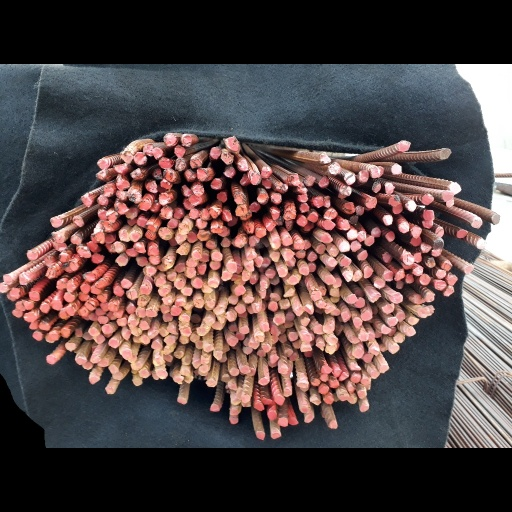dipstick: (92, 219, 118, 232), (223, 135, 240, 152), (416, 305, 436, 318), (177, 320, 193, 335), (75, 243, 91, 258), (162, 133, 178, 147), (174, 229, 188, 245), (89, 231, 106, 244), (202, 310, 216, 325), (160, 255, 175, 269), (157, 156, 173, 169), (209, 203, 222, 219), (230, 272, 246, 285), (61, 260, 78, 272), (220, 151, 234, 165), (287, 172, 301, 186), (163, 168, 177, 182), (119, 150, 133, 164), (116, 177, 130, 191), (327, 161, 341, 175), (158, 226, 172, 240), (114, 202, 129, 215), (146, 326, 161, 339), (23, 310, 38, 323), (196, 229, 212, 241), (142, 265, 158, 277), (113, 163, 130, 174), (249, 171, 262, 185), (191, 184, 205, 197), (133, 151, 147, 164), (95, 168, 109, 181), (159, 206, 173, 219), (188, 193, 202, 206), (242, 220, 255, 234), (233, 235, 247, 248), (363, 196, 377, 209), (445, 272, 458, 286), (309, 288, 322, 302), (199, 281, 213, 294), (118, 228, 131, 242), (84, 296, 97, 310), (64, 303, 78, 316), (91, 251, 105, 264), (80, 192, 92, 207), (380, 302, 395, 314), (86, 240, 101, 252), (51, 231, 66, 243), (337, 219, 353, 230), (211, 304, 227, 315), (81, 271, 97, 282), (209, 146, 222, 159), (195, 168, 208, 181), (260, 166, 273, 179), (184, 169, 197, 182), (96, 157, 109, 170), (248, 234, 261, 247), (314, 242, 327, 255), (449, 181, 462, 194), (443, 285, 456, 298), (393, 268, 406, 281), (345, 380, 358, 393), (204, 297, 217, 310), (166, 321, 179, 334), (38, 318, 51, 331), (8, 286, 21, 299), (2, 272, 15, 285), (173, 144, 185, 158), (180, 183, 192, 197), (100, 185, 114, 197), (146, 179, 158, 193), (234, 204, 248, 216), (268, 206, 280, 220), (341, 202, 355, 214), (433, 279, 447, 291), (359, 310, 373, 322), (233, 284, 247, 296), (192, 297, 206, 309), (154, 368, 168, 380), (169, 304, 183, 316), (210, 220, 222, 234), (135, 254, 149, 266), (112, 241, 126, 253), (55, 278, 69, 290), (27, 290, 41, 302), (21, 298, 35, 310), (69, 233, 83, 245), (106, 209, 117, 224), (333, 321, 344, 336), (114, 255, 129, 266), (410, 294, 426, 304), (51, 242, 67, 252), (210, 177, 223, 189), (223, 166, 236, 178), (261, 176, 273, 189), (151, 147, 163, 160), (160, 178, 173, 190), (151, 167, 163, 180), (96, 194, 109, 206), (158, 192, 170, 205), (137, 199, 150, 211), (200, 207, 212, 220), (257, 192, 269, 205), (239, 173, 251, 186), (96, 208, 109, 220), (281, 249, 294, 261), (243, 259, 255, 272), (320, 231, 333, 243), (368, 166, 381, 178), (339, 184, 352, 196), (404, 200, 417, 212), (345, 228, 358, 240), (381, 251, 393, 264), (402, 252, 414, 265), (422, 209, 435, 221), (409, 226, 422, 238), (419, 241, 432, 253), (418, 273, 431, 285), (422, 290, 435, 302), (390, 292, 403, 304), (351, 269, 363, 282), (338, 240, 350, 253), (327, 245, 340, 257), (339, 255, 352, 267), (277, 298, 290, 310), (273, 394, 286, 406), (171, 373, 184, 385), (251, 299, 263, 312), (248, 272, 260, 285), (224, 261, 237, 273), (242, 259, 255, 271), (189, 313, 202, 325), (157, 324, 169, 337), (136, 294, 149, 306), (138, 282, 151, 294), (74, 353, 87, 365), (184, 266, 197, 278), (165, 269, 177, 282), (217, 225, 230, 237), (186, 230, 198, 243), (177, 223, 190, 235), (133, 241, 146, 253), (136, 215, 148, 228), (129, 230, 142, 242), (58, 307, 70, 320), (17, 273, 30, 285), (44, 266, 57, 278), (237, 158, 248, 172), (282, 209, 296, 220), (321, 219, 335, 230), (302, 175, 316, 186), (397, 140, 411, 151), (373, 278, 387, 289), (367, 292, 381, 303), (295, 381, 309, 392), (247, 338, 261, 349), (225, 336, 239, 347), (196, 325, 210, 336), (206, 277, 220, 288), (162, 344, 176, 355), (125, 289, 139, 300), (157, 286, 171, 297), (66, 278, 77, 292), (47, 330, 61, 341), (13, 300, 27, 311), (25, 249, 39, 260), (299, 331, 314, 341), (151, 356, 166, 366), (146, 245, 161, 255), (124, 207, 139, 217), (180, 134, 192, 146), (174, 158, 186, 170), (130, 167, 142, 179), (234, 193, 246, 205), (72, 215, 84, 227), (265, 219, 277, 231), (221, 209, 233, 221), (357, 170, 369, 182), (420, 193, 432, 205), (397, 221, 409, 233), (370, 225, 382, 237), (350, 240, 362, 252), (463, 263, 475, 275), (411, 251, 423, 263), (424, 256, 436, 268), (382, 269, 394, 281), (393, 331, 405, 343), (352, 317, 364, 329), (352, 347, 364, 359), (286, 273, 298, 285), (276, 265, 288, 277), (324, 342, 336, 354), (260, 256, 272, 268), (260, 340, 272, 352), (224, 310, 236, 322), (241, 269, 253, 281), (113, 285, 125, 297), (145, 229, 157, 241), (39, 301, 51, 313), (77, 304, 89, 316), (42, 256, 54, 268), (189, 157, 202, 168), (143, 143, 154, 156), (182, 198, 195, 209), (270, 193, 283, 204), (292, 238, 305, 249), (268, 251, 281, 262), (318, 175, 329, 188), (319, 153, 332, 164), (344, 171, 355, 184), (371, 181, 382, 194), (384, 181, 395, 194), (390, 162, 401, 175), (381, 214, 394, 225), (357, 248, 368, 261), (439, 148, 452, 159), (441, 190, 454, 201), (385, 316, 398, 327), (341, 269, 352, 282), (352, 297, 365, 308), (388, 343, 401, 354), (317, 384, 330, 395), (257, 375, 270, 386), (233, 303, 246, 314), (101, 323, 114, 334), (45, 354, 58, 365), (120, 278, 133, 289), (173, 279, 186, 290), (190, 277, 203, 288), (153, 276, 166, 287), (195, 262, 206, 275), (208, 259, 221, 270), (210, 249, 223, 260), (173, 262, 186, 273), (205, 238, 218, 249), (175, 245, 188, 256), (58, 252, 71, 263), (274, 184, 288, 194), (49, 216, 63, 226), (323, 208, 337, 218), (301, 221, 315, 231), (420, 219, 434, 229), (403, 326, 417, 336), (355, 332, 369, 342), (325, 335, 339, 345), (348, 362, 362, 372), (308, 395, 322, 405), (242, 294, 256, 304), (177, 313, 191, 323), (87, 375, 101, 385), (115, 317, 129, 327), (166, 218, 180, 228), (94, 278, 108, 288), (10, 307, 24, 317), (281, 288, 296, 297), (147, 255, 162, 264), (129, 192, 141, 203), (216, 192, 228, 203), (249, 201, 261, 212), (296, 214, 307, 226), (270, 237, 281, 249), (255, 226, 267, 237), (240, 210, 252, 221), (313, 195, 324, 207), (388, 195, 400, 206), (355, 230, 366, 242), (471, 218, 483, 229), (475, 238, 487, 249), (433, 238, 444, 250), (434, 268, 446, 279), (395, 311, 406, 323), (326, 255, 338, 266), (340, 310, 351, 322), (362, 353, 374, 364), (322, 323, 334, 334), (306, 250, 317, 262), (350, 372, 361, 384), (323, 392, 334, 404), (303, 413, 315, 424), (291, 338, 302, 350), (284, 311, 296, 322), (220, 270, 232, 281), (151, 339, 163, 350), (134, 306, 146, 317), (108, 338, 120, 349), (120, 328, 131, 340), (89, 353, 101, 364), (125, 301, 136, 313), (190, 249, 202, 260), (219, 237, 231, 248), (79, 283, 91, 294), (63, 291, 75, 302), (31, 330, 43, 341), (51, 298, 62, 310), (173, 206, 183, 219), (385, 230, 395, 243), (409, 236, 422, 246), (441, 260, 454, 270), (323, 274, 336, 284), (353, 288, 366, 298), (367, 346, 380, 356), (302, 304, 315, 314), (320, 364, 333, 374), (326, 419, 339, 429), (287, 331, 300, 341), (273, 316, 286, 326), (266, 334, 279, 344), (180, 355, 193, 365), (177, 334, 190, 344), (159, 303, 172, 313), (138, 334, 151, 344), (145, 307, 158, 317), (127, 319, 140, 329), (87, 326, 100, 336), (92, 334, 105, 344), (107, 301, 120, 311), (161, 296, 174, 306), (180, 287, 193, 297), (163, 335, 177, 344), (125, 247, 139, 256), (145, 222, 159, 231), (188, 208, 199, 219), (227, 216, 238, 227), (434, 226, 445, 237), (404, 273, 415, 284), (329, 286, 340, 297), (299, 316, 310, 327), (267, 301, 278, 312), (264, 268, 275, 279), (314, 340, 325, 351), (227, 379, 238, 390), (227, 294, 238, 305), (106, 310, 117, 321), (60, 327, 71, 338), (115, 190, 127, 200), (148, 202, 160, 212), (296, 183, 308, 193), (295, 249, 307, 259), (392, 203, 402, 215), (363, 236, 375, 246), (455, 228, 467, 238), (430, 247, 442, 257), (412, 265, 424, 275), (379, 324, 391, 334), (378, 363, 390, 373), (292, 306, 304, 316), (269, 292, 281, 302), (359, 400, 369, 412), (337, 391, 349, 401), (288, 351, 300, 361), (280, 368, 292, 378), (254, 333, 266, 343), (228, 366, 240, 376), (259, 279, 269, 291), (257, 288, 267, 300), (138, 367, 150, 377), (162, 312, 174, 322), (138, 320, 150, 330), (112, 371, 124, 381), (120, 349, 132, 359), (130, 326, 142, 336), (97, 358, 109, 368), (65, 342, 77, 352), (87, 312, 99, 322), (126, 217, 138, 227), (78, 291, 90, 301), (315, 300, 328, 309), (300, 342, 313, 351), (270, 431, 283, 440), (255, 349, 268, 358), (235, 387, 244, 400), (204, 378, 217, 387), (179, 367, 192, 376), (211, 321, 224, 330), (161, 353, 174, 362), (174, 297, 187, 306), (185, 258, 198, 267), (90, 285, 103, 294), (299, 202, 309, 213), (282, 236, 293, 246), (260, 237, 270, 248), (354, 205, 364, 216), (364, 267, 374, 278), (388, 326, 398, 337), (332, 277, 343, 287), (345, 293, 356, 303), (350, 334, 361, 344), (357, 388, 367, 399), (347, 393, 357, 404), (332, 367, 343, 377), (283, 319, 294, 329), (269, 325, 280, 335), (282, 347, 293, 357), (281, 387, 292, 397), (277, 417, 288, 427), (267, 410, 278, 420), (259, 322, 270, 332), (246, 366, 257, 376), (213, 349, 223, 360), (191, 358, 201, 369), (189, 332, 200, 342), (108, 364, 119, 374), (127, 354, 138, 364), (113, 308, 124, 318), (98, 301, 109, 311), (44, 332, 54, 343), (0, 282, 10, 293), (284, 219, 293, 231), (408, 316, 420, 325), (312, 324, 324, 333), (253, 402, 265, 411), (261, 396, 273, 405), (238, 325, 250, 334), (227, 407, 239, 416), (229, 396, 241, 405), (176, 396, 188, 405), (150, 370, 159, 382), (131, 377, 143, 386), (104, 386, 116, 395), (97, 315, 109, 324), (182, 300, 194, 309), (167, 237, 179, 246), (96, 294, 108, 303), (29, 319, 38, 331), (323, 195, 331, 208), (401, 261, 414, 269), (323, 305, 336, 313), (338, 372, 351, 380), (227, 323, 240, 331), (81, 362, 94, 370), (94, 307, 107, 315), (307, 262, 317, 272), (278, 333, 288, 343), (200, 354, 210, 364), (183, 373, 193, 383), (235, 331, 245, 341), (245, 304, 255, 314), (297, 193, 308, 202), (254, 255, 263, 266), (491, 214, 500, 225), (318, 285, 327, 296), (298, 266, 309, 275), (285, 258, 296, 267), (328, 380, 339, 389), (311, 377, 322, 386), (269, 354, 280, 363), (255, 431, 266, 440), (242, 346, 253, 355), (239, 365, 250, 374), (209, 403, 220, 412), (221, 373, 230, 384), (202, 343, 213, 352), (173, 350, 184, 359), (82, 331, 93, 340), (73, 328, 84, 337), (245, 252, 257, 260), (369, 370, 381, 378), (268, 277, 280, 285), (277, 366, 289, 374), (199, 364, 211, 372), (235, 262, 243, 274), (329, 309, 342, 316), (349, 215, 359, 224), (369, 304, 378, 314), (319, 373, 329, 382), (288, 416, 298, 425), (241, 393, 251, 402), (360, 377, 371, 385), (299, 405, 311, 412), (227, 417, 239, 424), (197, 369, 209, 376), (130, 362, 142, 369), (395, 280, 404, 289), (379, 343, 388, 352), (303, 239, 311, 249), (330, 295, 340, 303), (304, 350, 314, 358), (267, 360, 277, 368), (348, 350, 356, 360), (217, 355, 227, 363), (195, 341, 205, 349), (132, 335, 142, 343), (367, 331, 374, 342), (377, 165, 383, 177), (446, 198, 454, 207), (242, 337, 250, 346), (374, 329, 382, 337), (276, 216, 283, 225), (260, 302, 266, 312), (258, 266, 265, 272)
